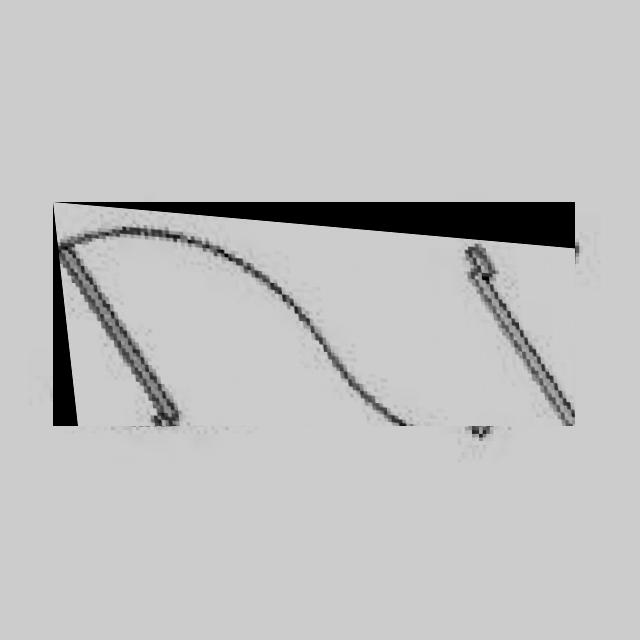door: (53, 202, 576, 426)
